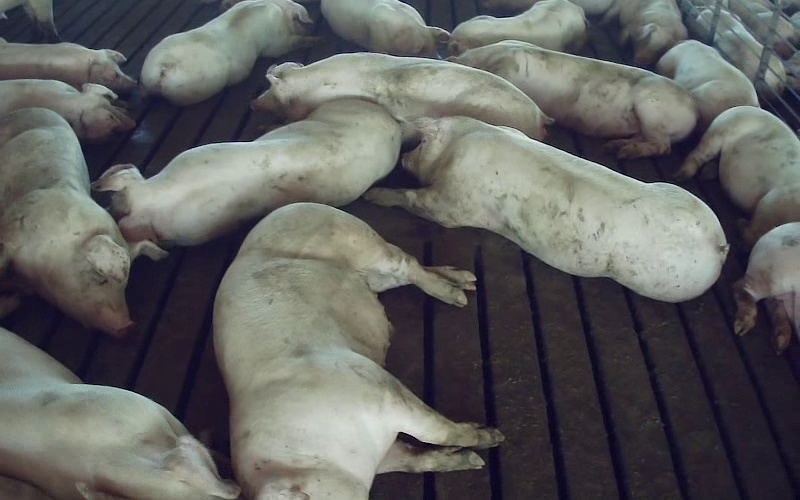pig: (214, 204, 502, 499), (366, 117, 727, 301), (94, 99, 401, 244), (455, 40, 696, 158), (253, 53, 549, 140), (141, 0, 312, 104), (678, 106, 799, 246), (656, 40, 758, 132), (448, 0, 586, 54), (321, 0, 449, 57), (603, 0, 687, 65)
